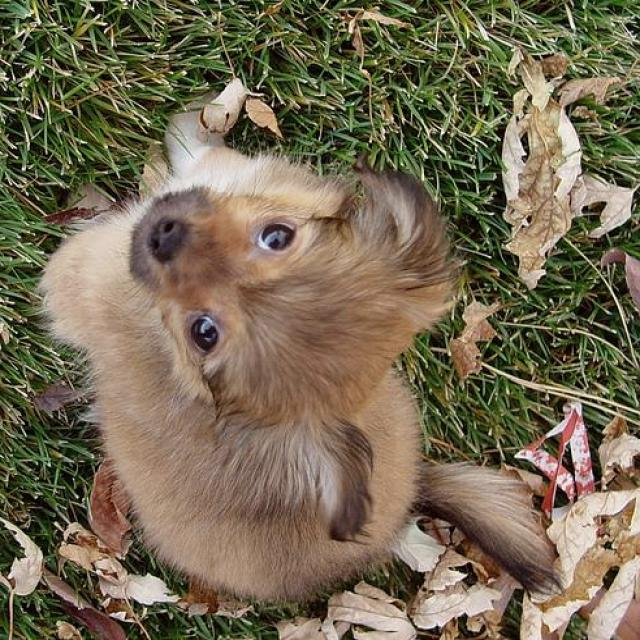pekinese: (35, 98, 572, 612)
